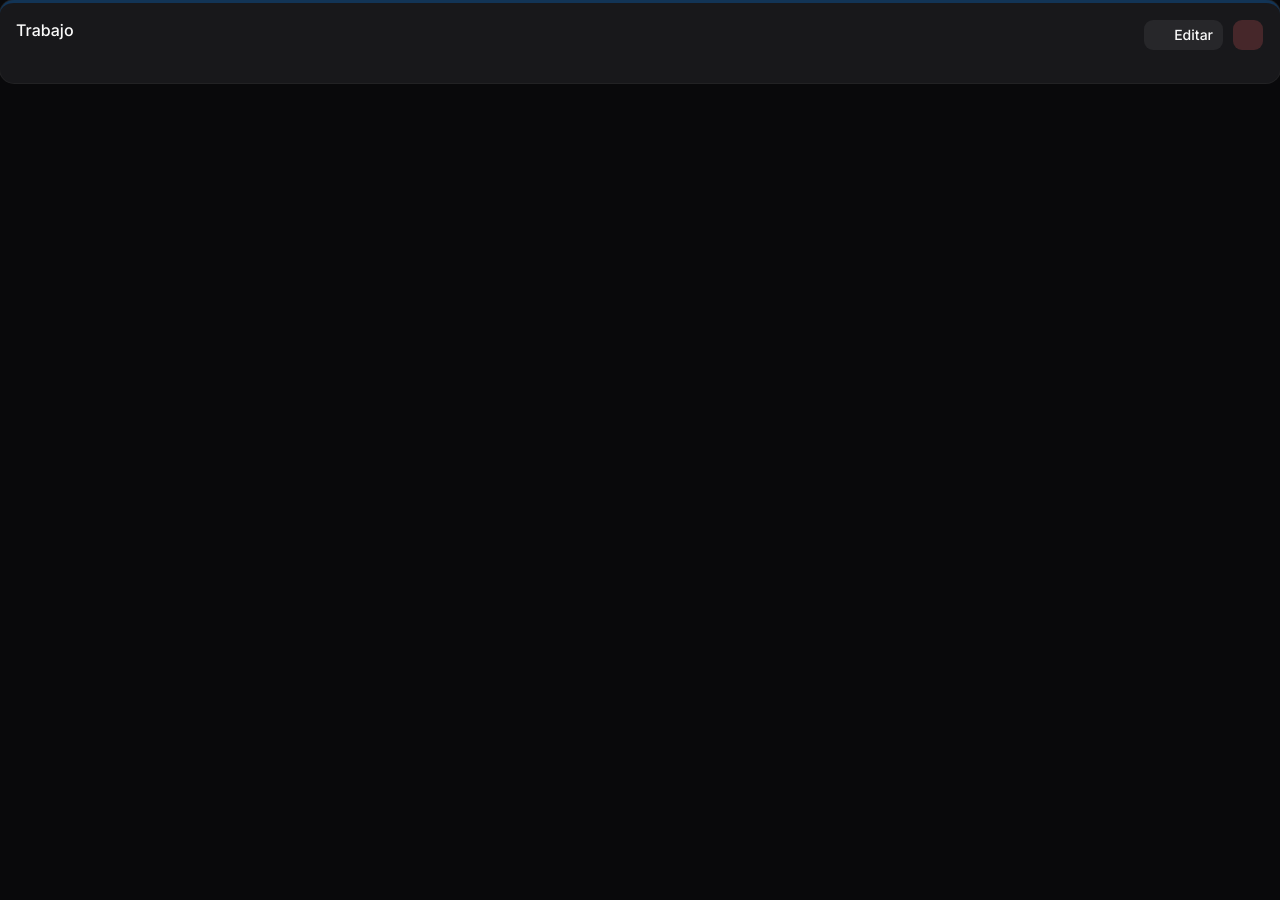
Test case: project deletion › keeps the dialog open and does not navigate after a conflict
Step 1. Click the button named "Eliminar proyecto" → (1248, 35), box [1232,19,1264,51]
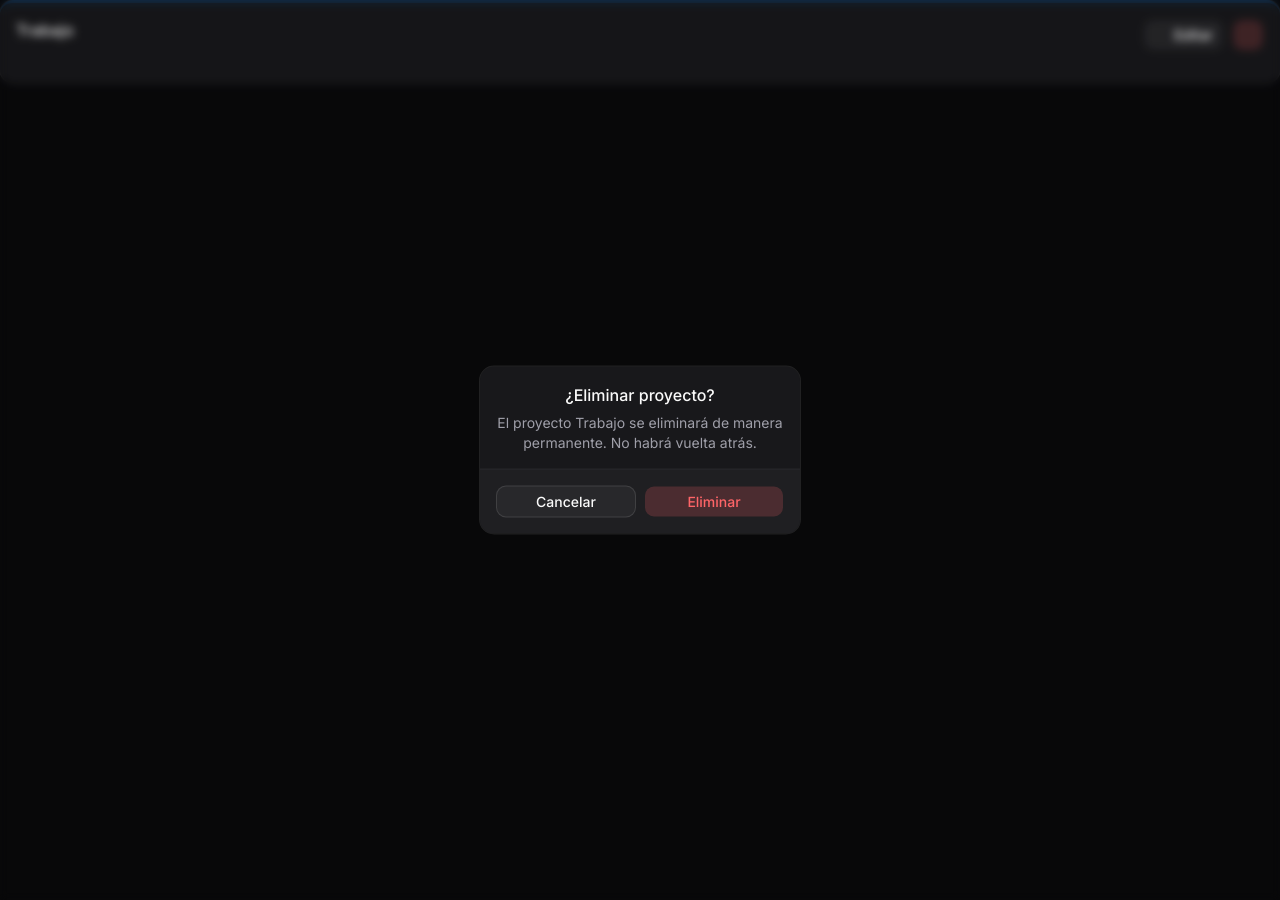
Step 2. Click the button "Eliminar" → (714, 502), box [644,486,784,518]
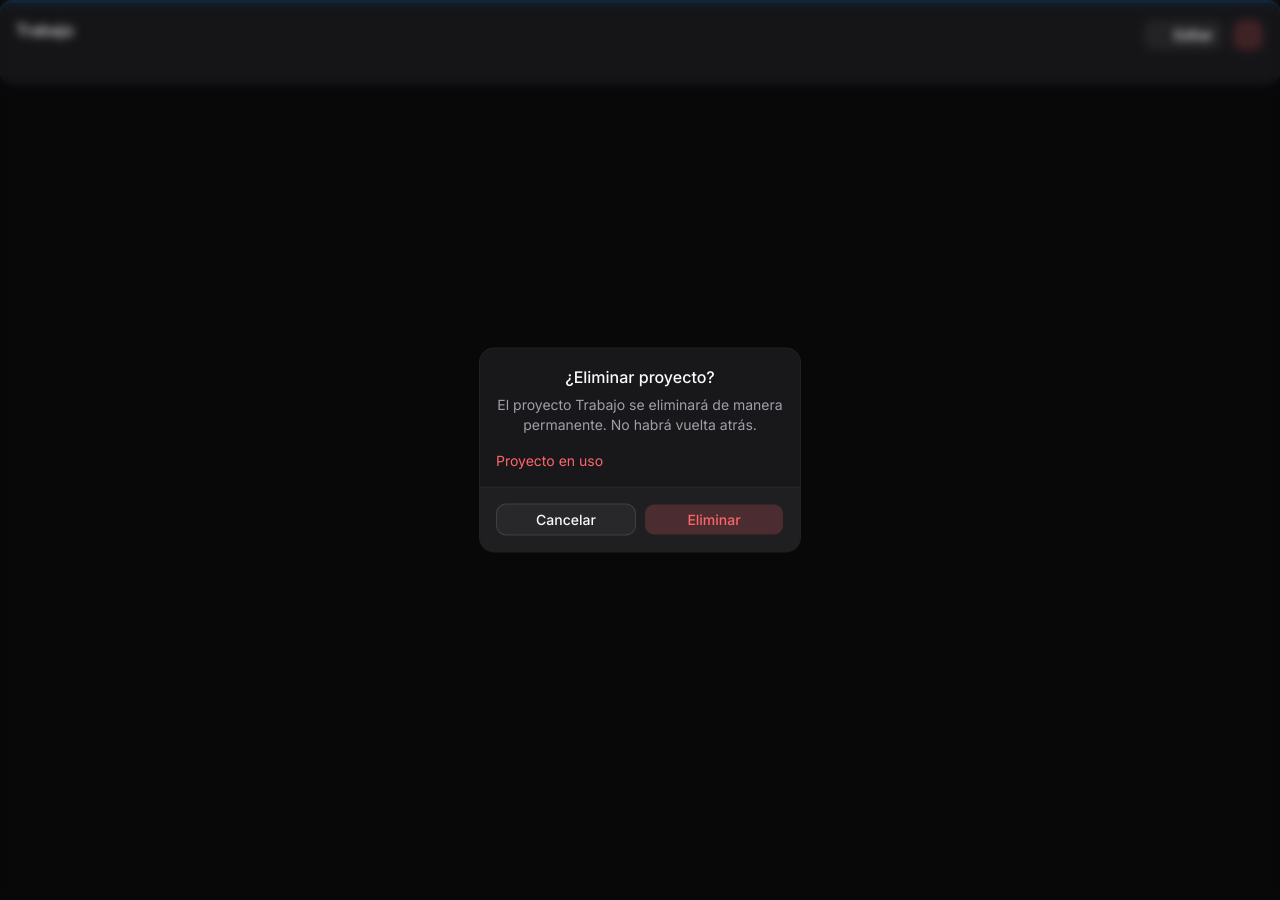
Result: the heading "¿Eliminar proyecto?" is shown at [565,364,715,388]
Result: the message reads "Proyecto en uso" at [496,452,603,468]
